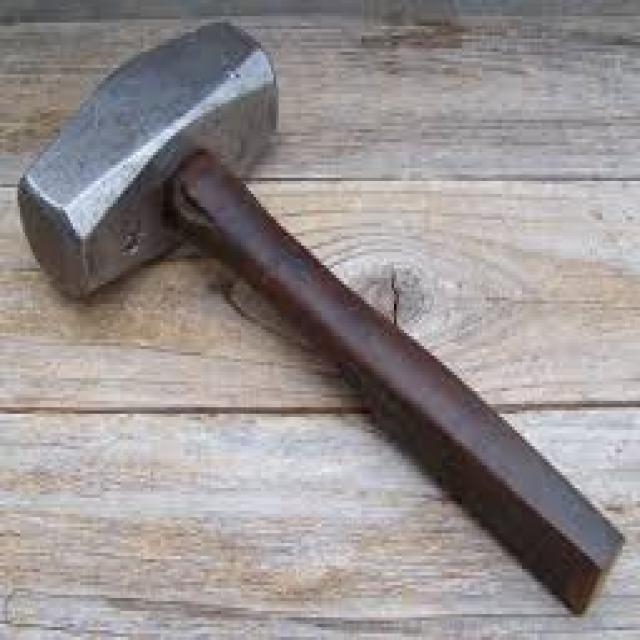hammer: (16, 11, 626, 616)
